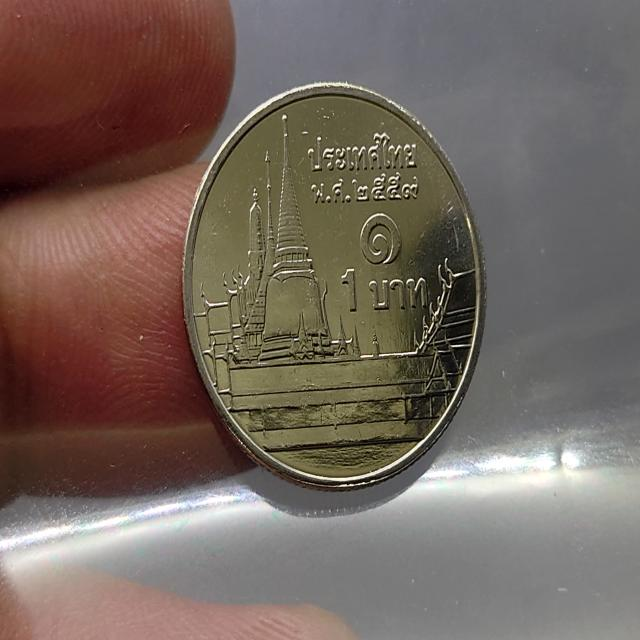1 Bath: (176, 65, 504, 514)
